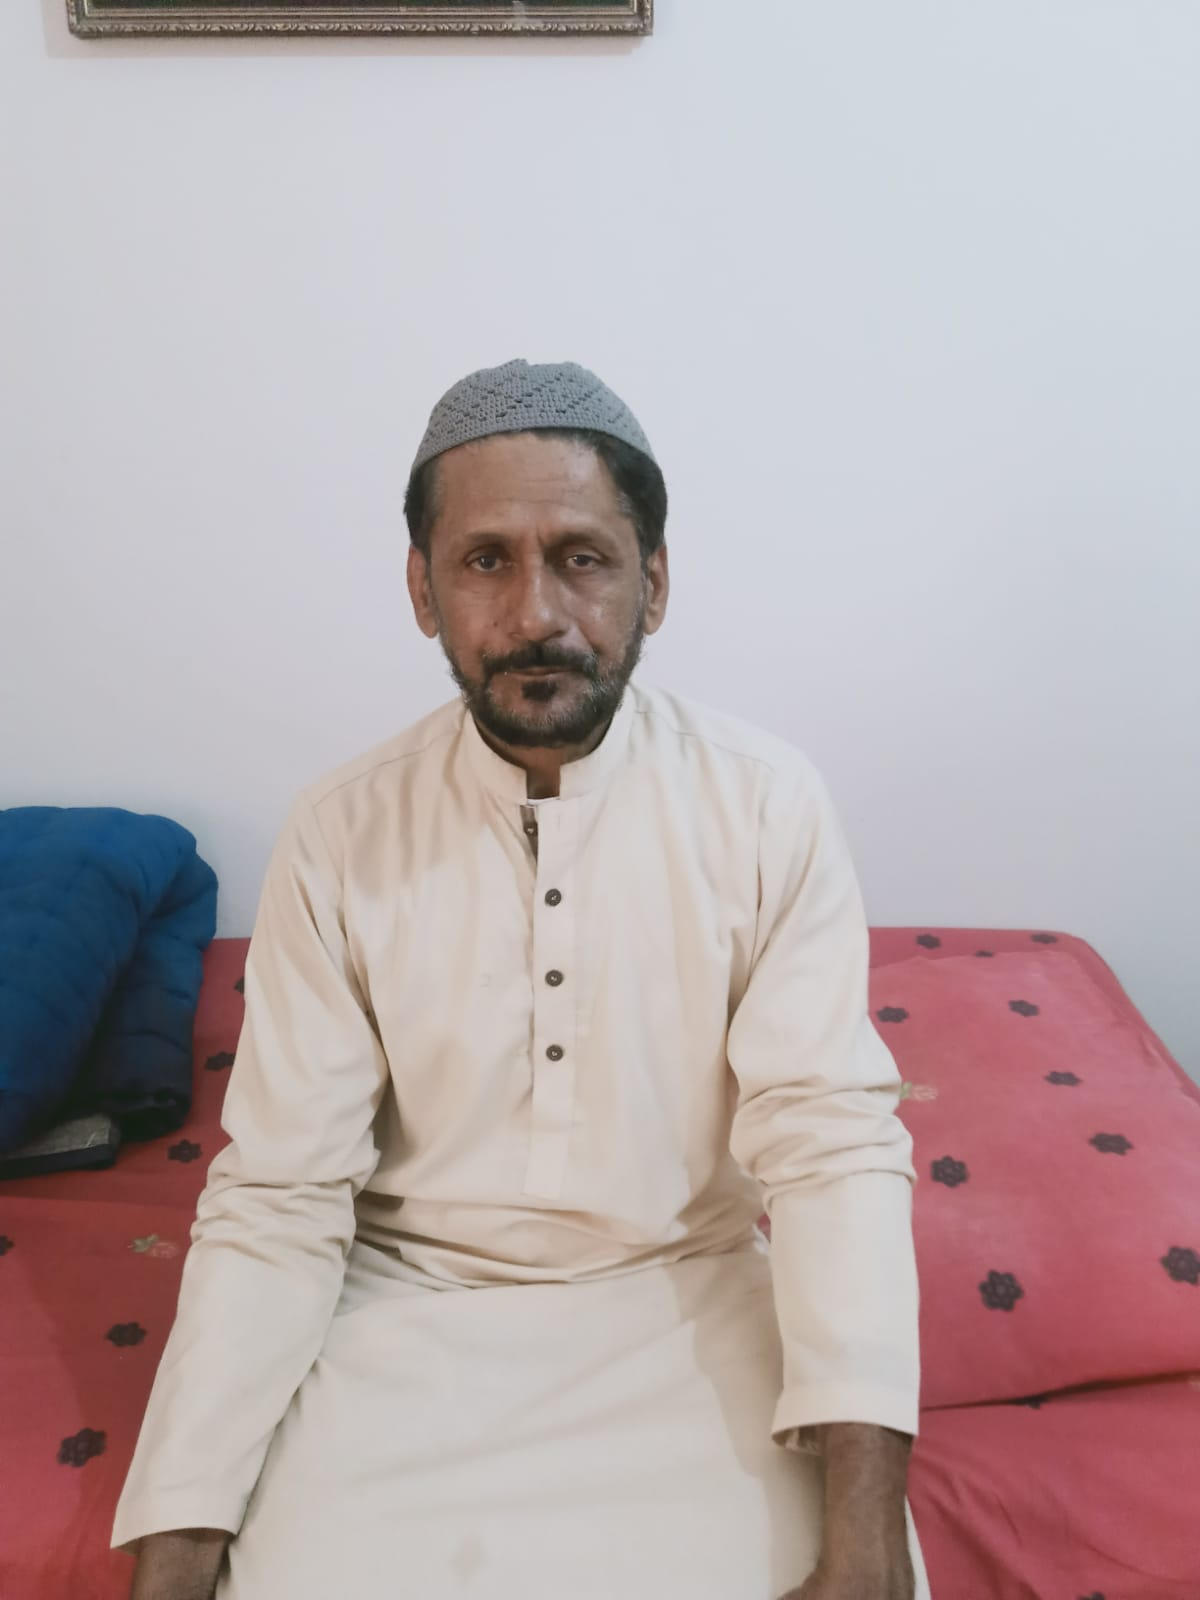NoMask: (450, 515, 628, 745)
